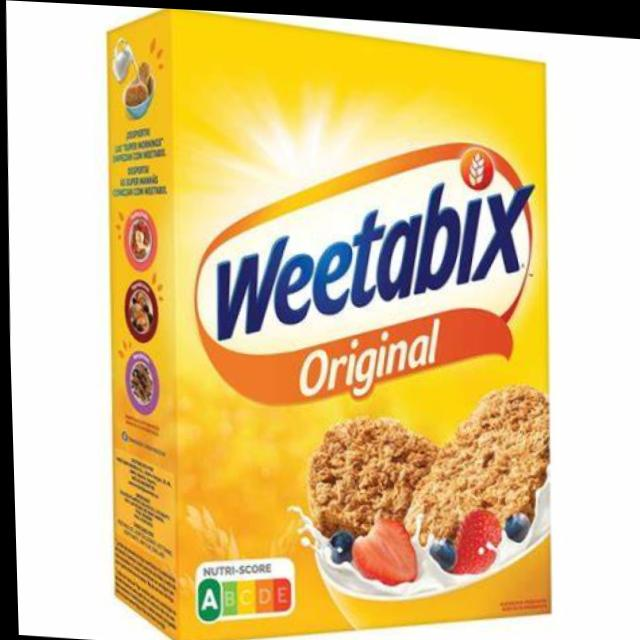Caja: (83, 4, 580, 640)
